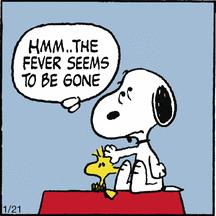snoopy: (89, 67, 186, 195)
